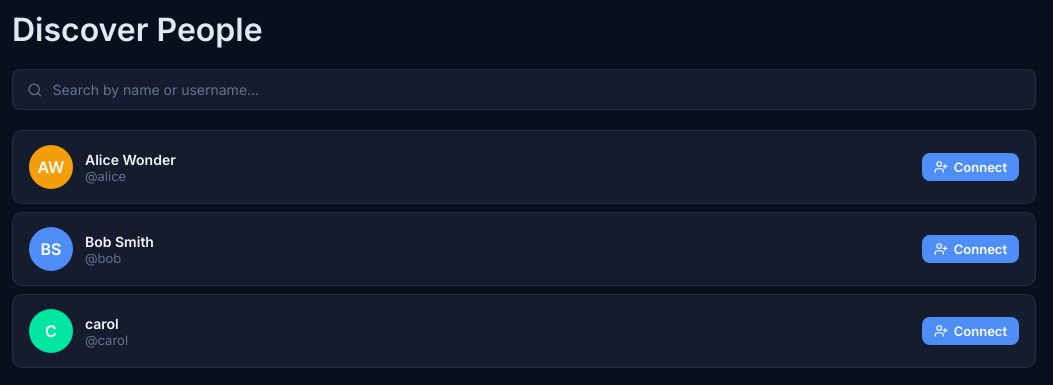
Test case: Discover page › shows a Connect button for non-connected users and sends a request on click
This screenshot has width=1053, height=385.
Expected: the text "Alice Wonder" is shown, [85, 151, 176, 168]
Click the button "Connect" in the row of "Alice Wonder" at [970, 167], box [922, 153, 1019, 181]
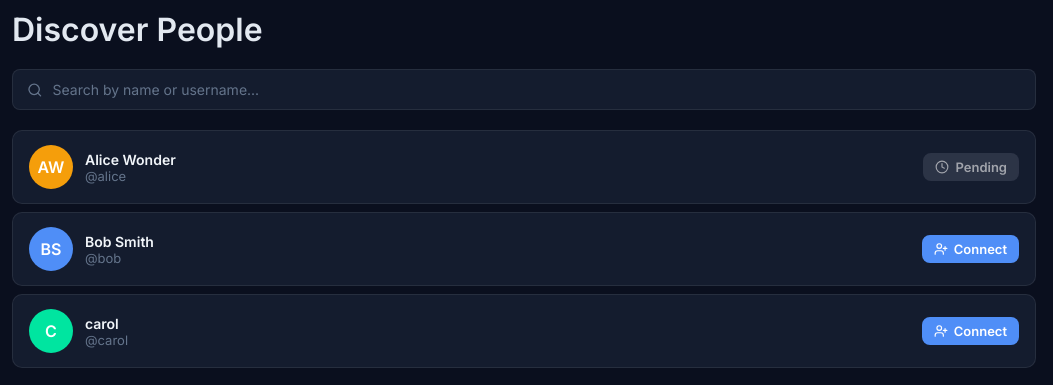
Now the button "Pending" is shown, box [924, 153, 1019, 181]
